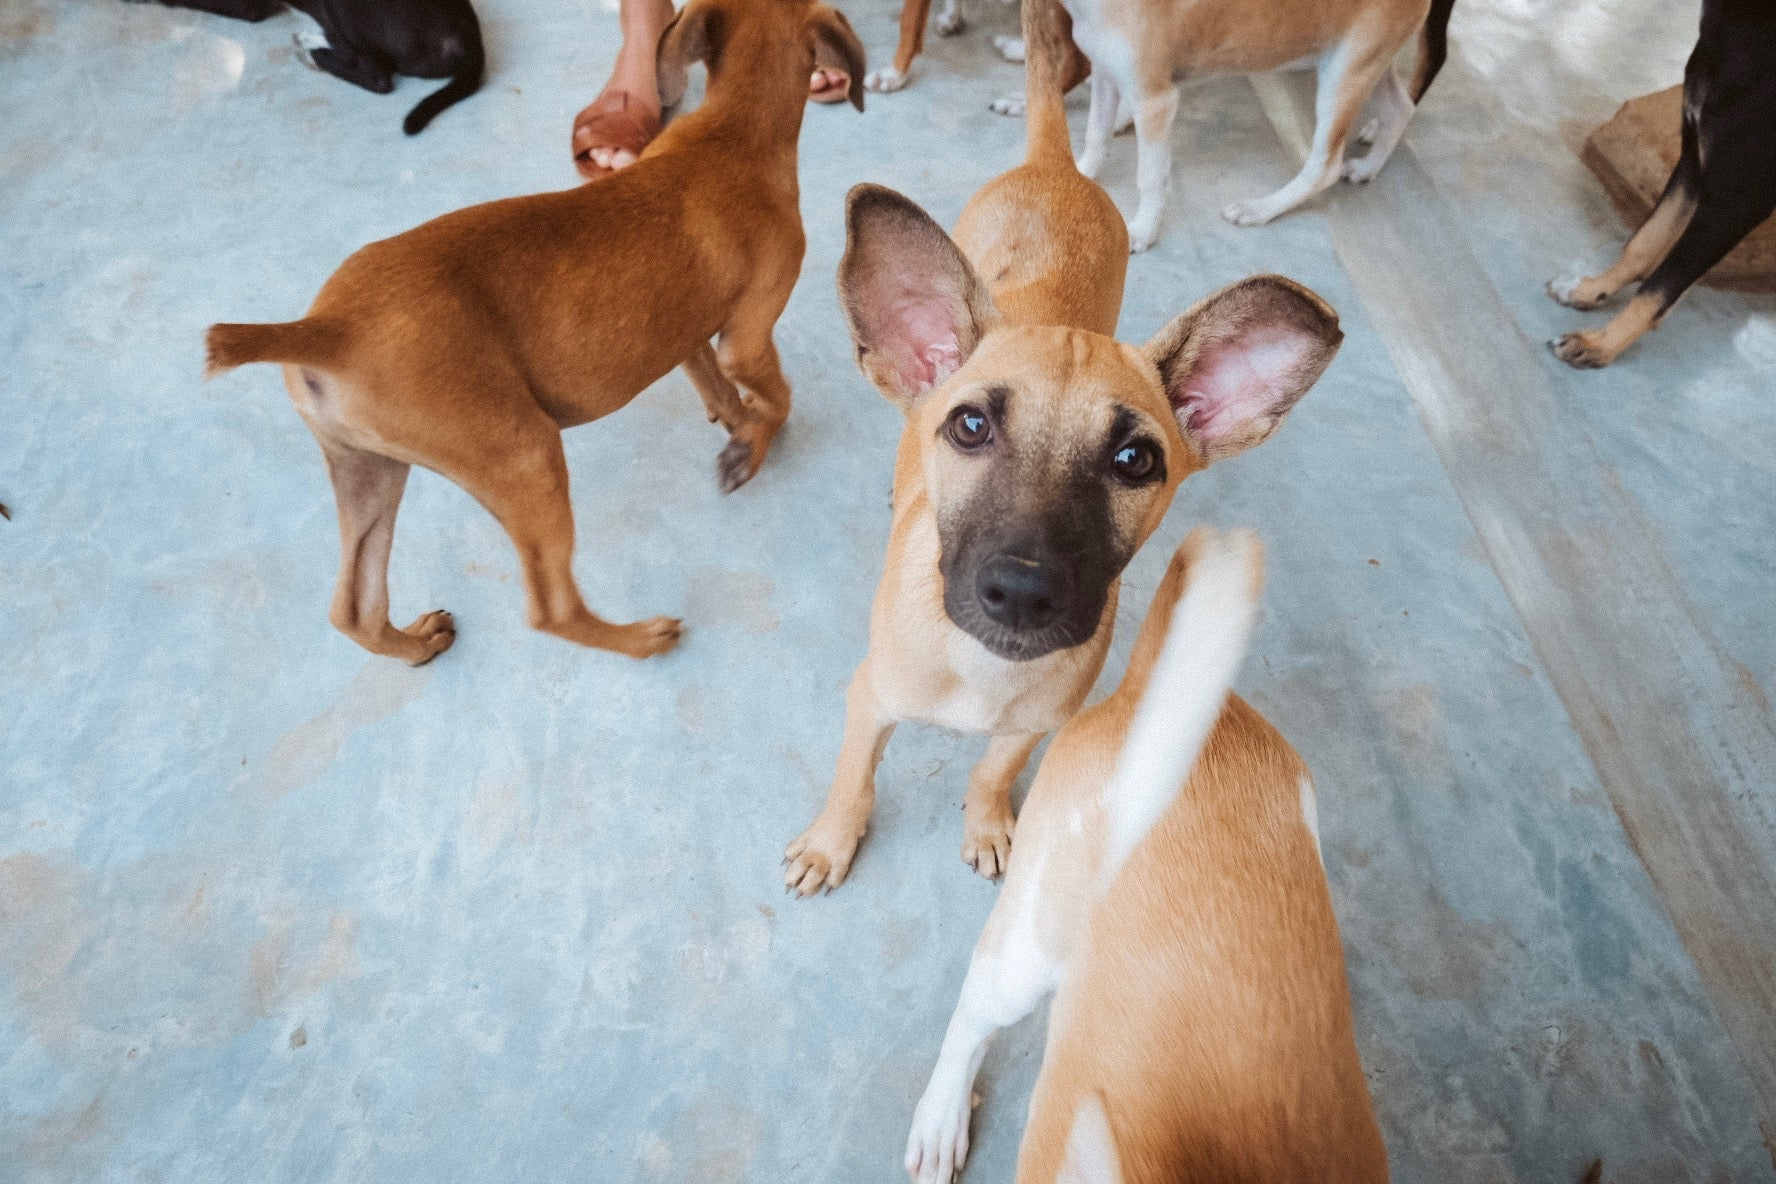Dog: (737, 94, 1327, 928)
